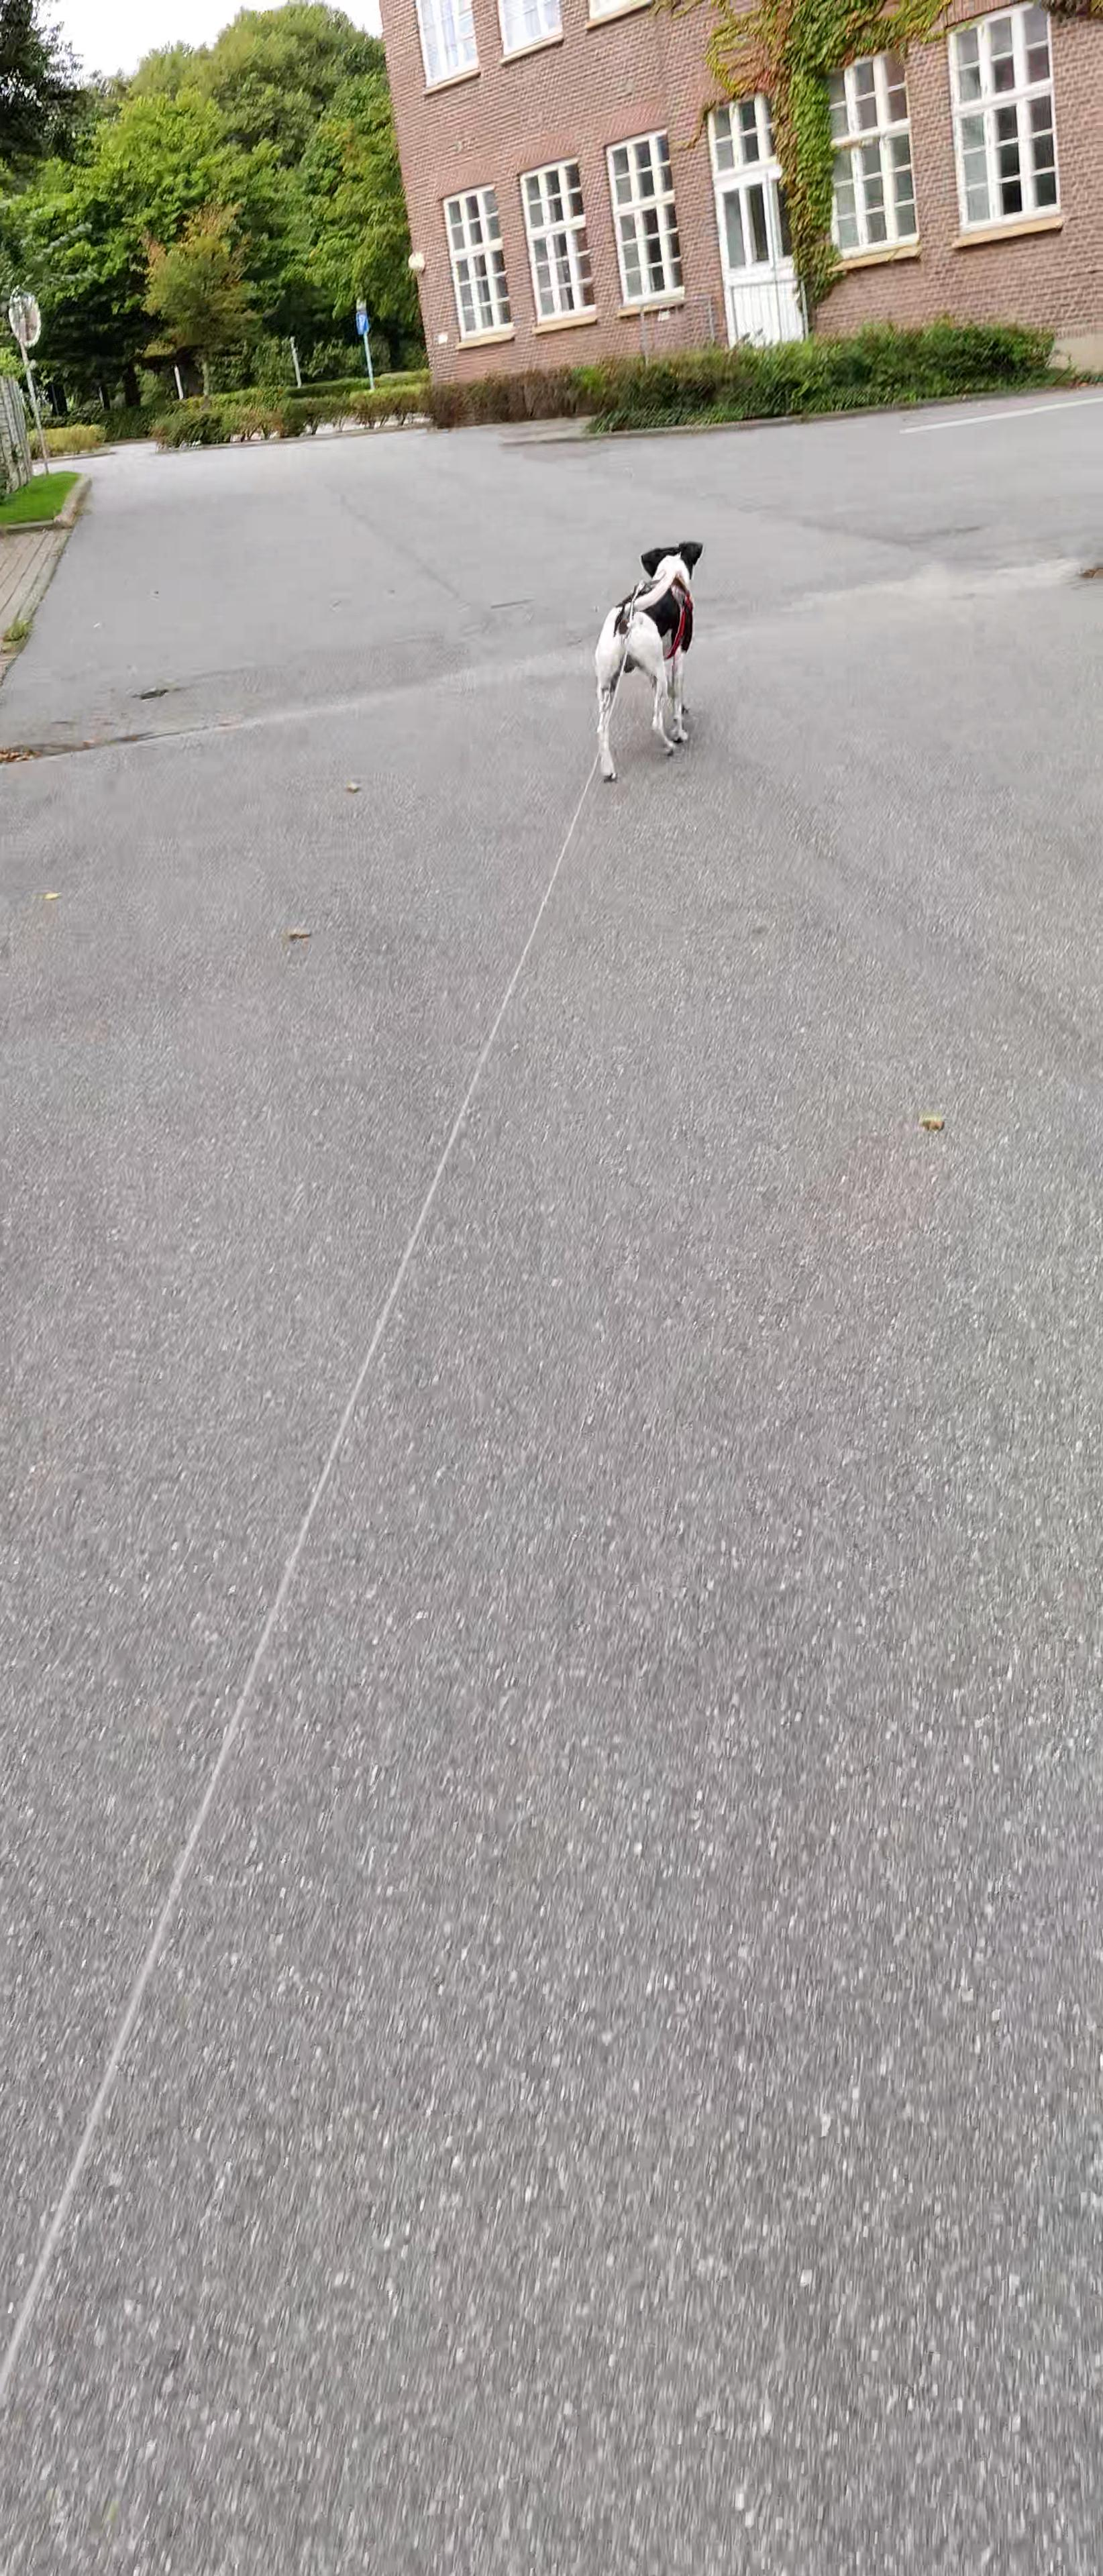Dog: (592, 536, 708, 789)
